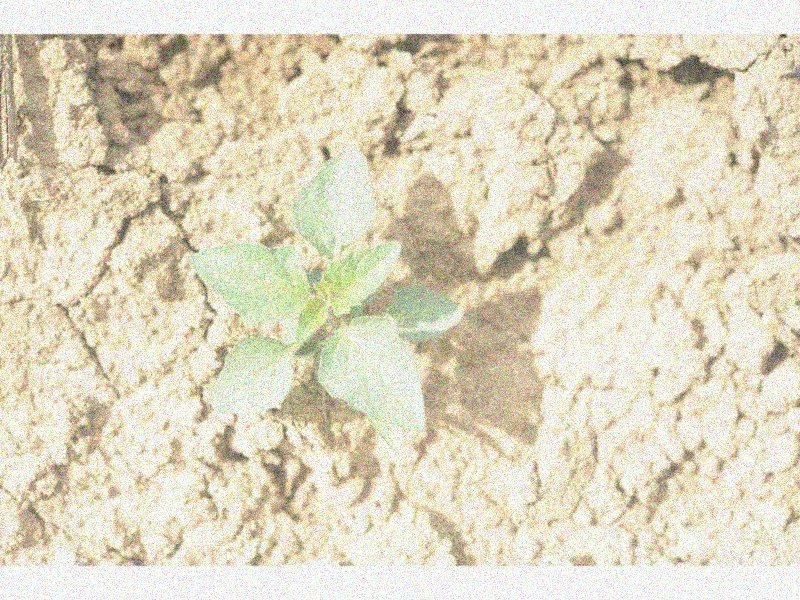nightshade: (191, 144, 465, 432)
